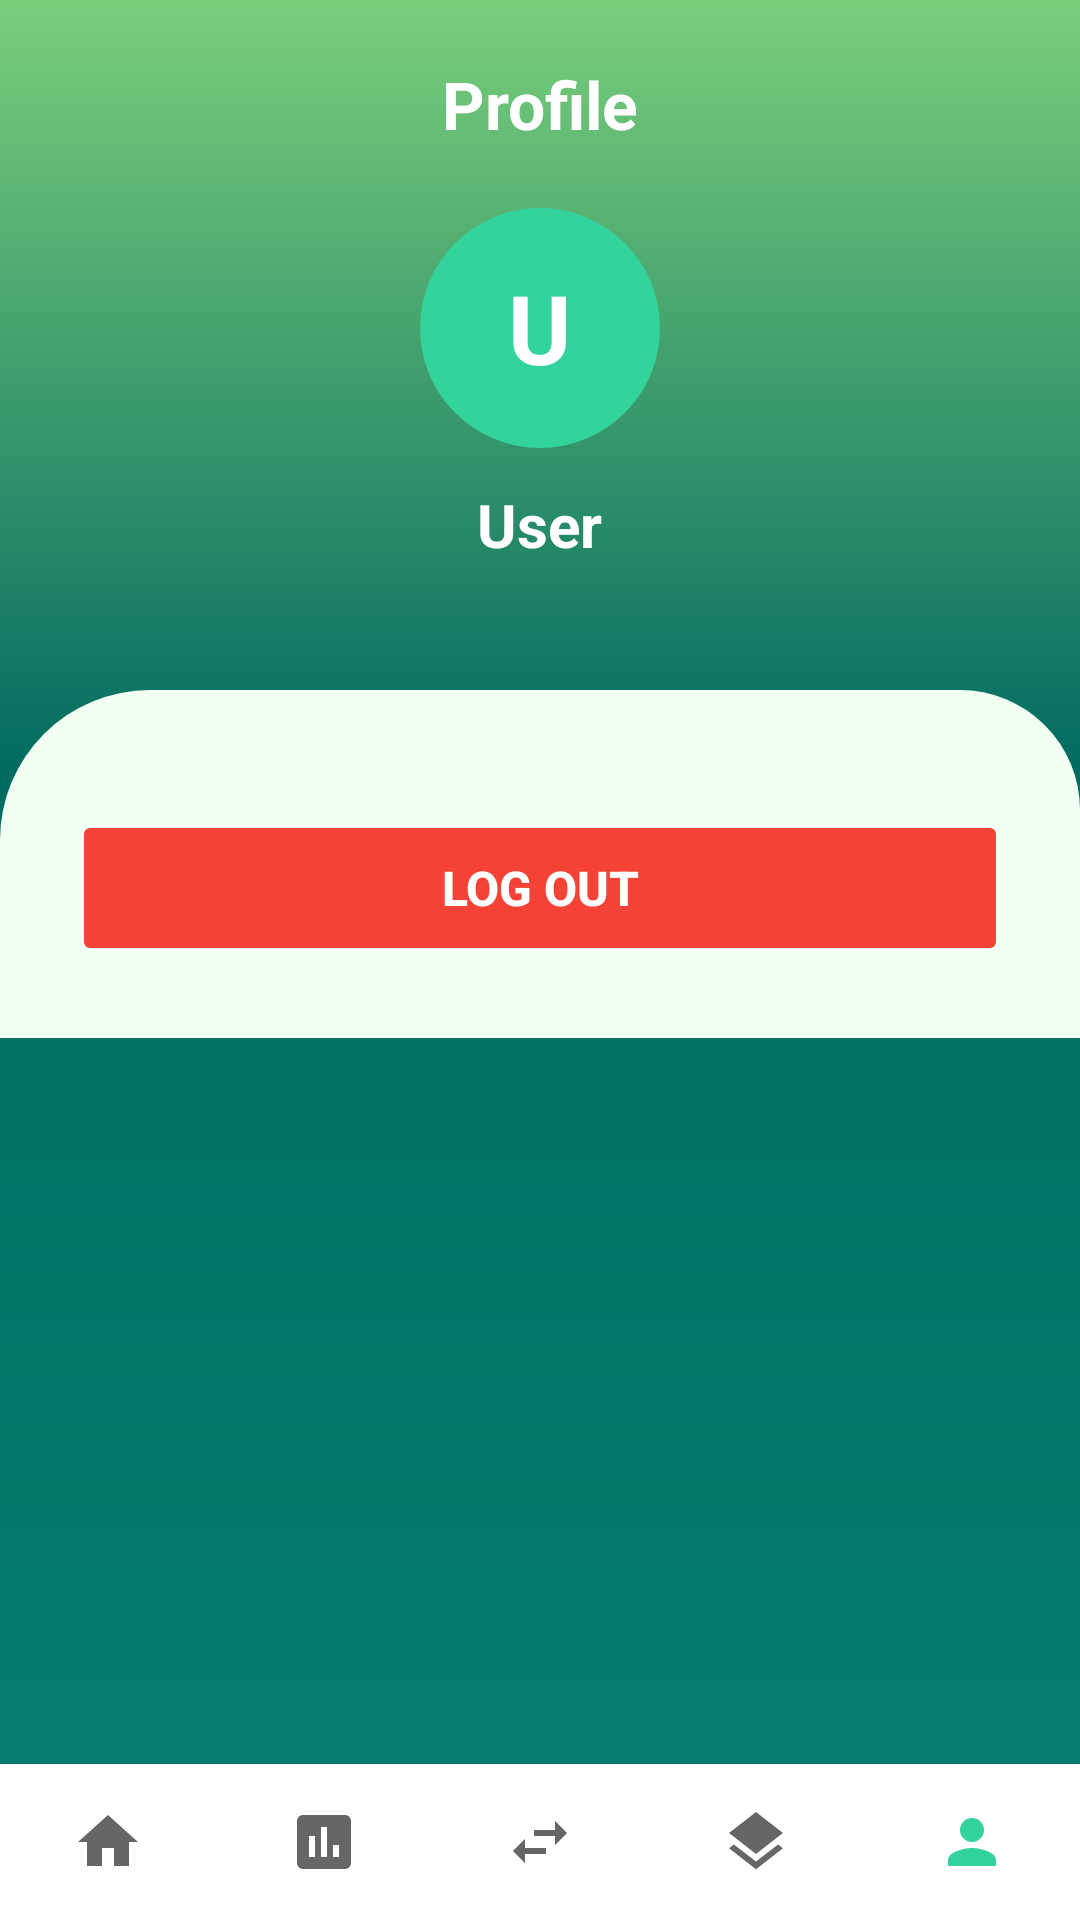

Named icons in this screenshot (1080 x 1920) and their centers, point (x, y):
analytics: point (324, 1842)
home: point (108, 1840)
layers: point (756, 1840)
profile: point (972, 1842)
transfer: point (540, 1842)
